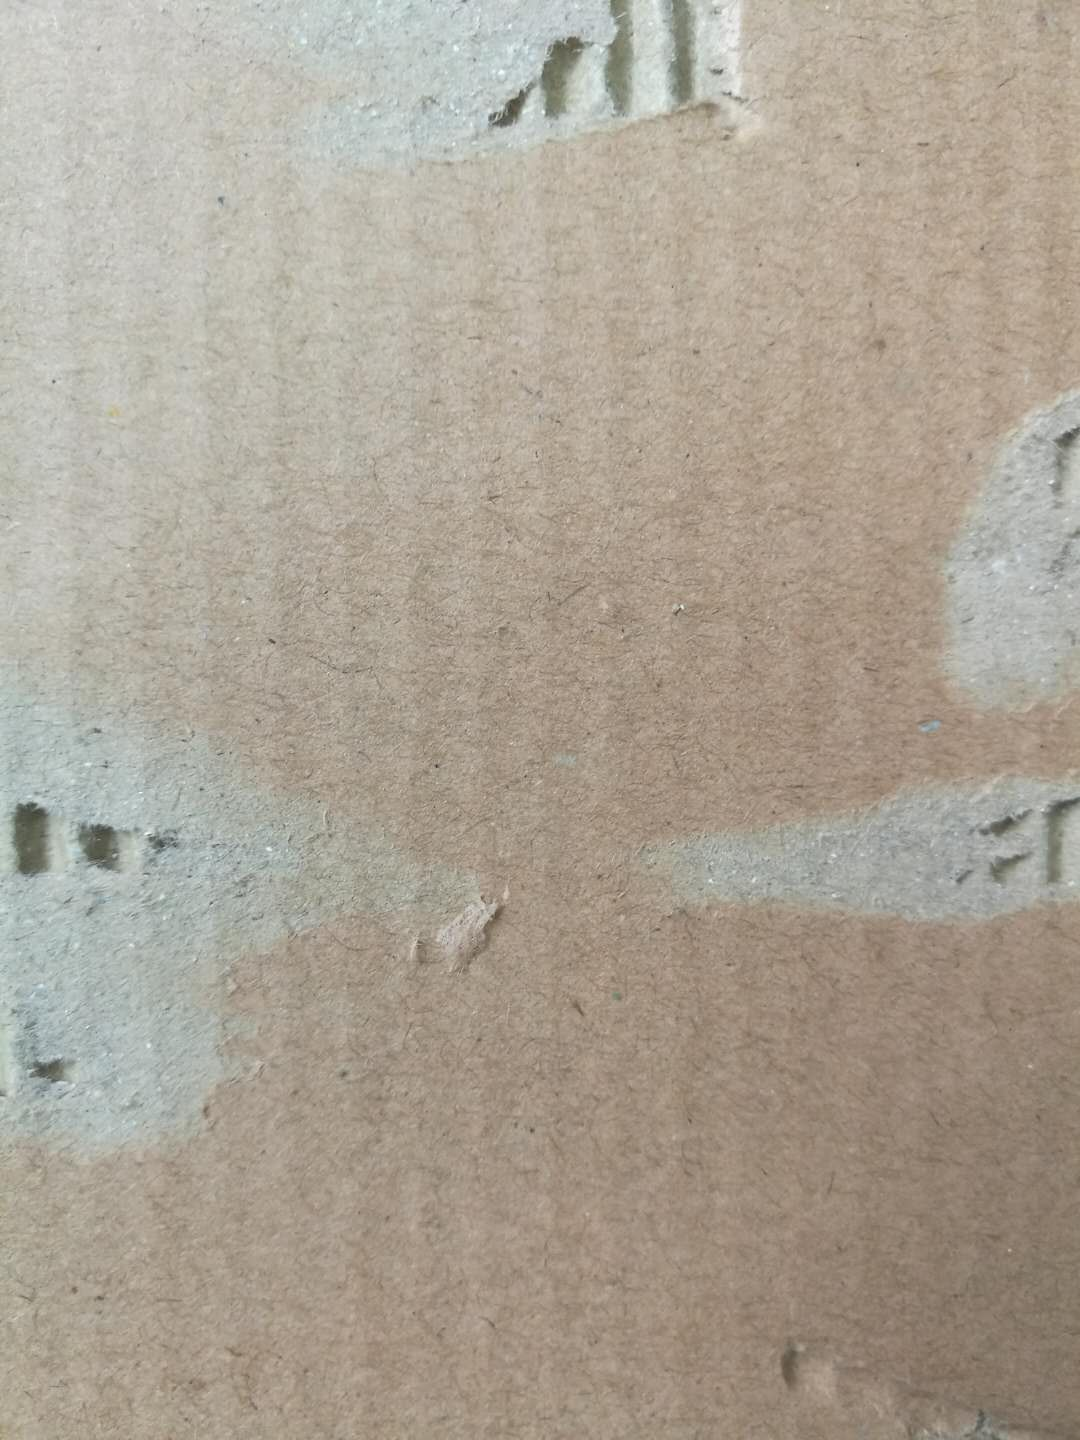defect: (3, 622, 532, 1212), (216, 2, 802, 200), (605, 744, 1080, 967), (908, 348, 1080, 739), (746, 1316, 1080, 1439)
